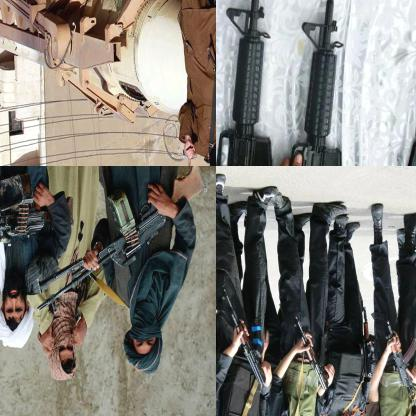rifle: (33, 166, 209, 314), (286, 0, 362, 165), (216, 0, 290, 165), (0, 186, 77, 251), (221, 288, 268, 388), (292, 314, 334, 392), (384, 322, 415, 415), (357, 314, 374, 384), (203, 38, 215, 128)
